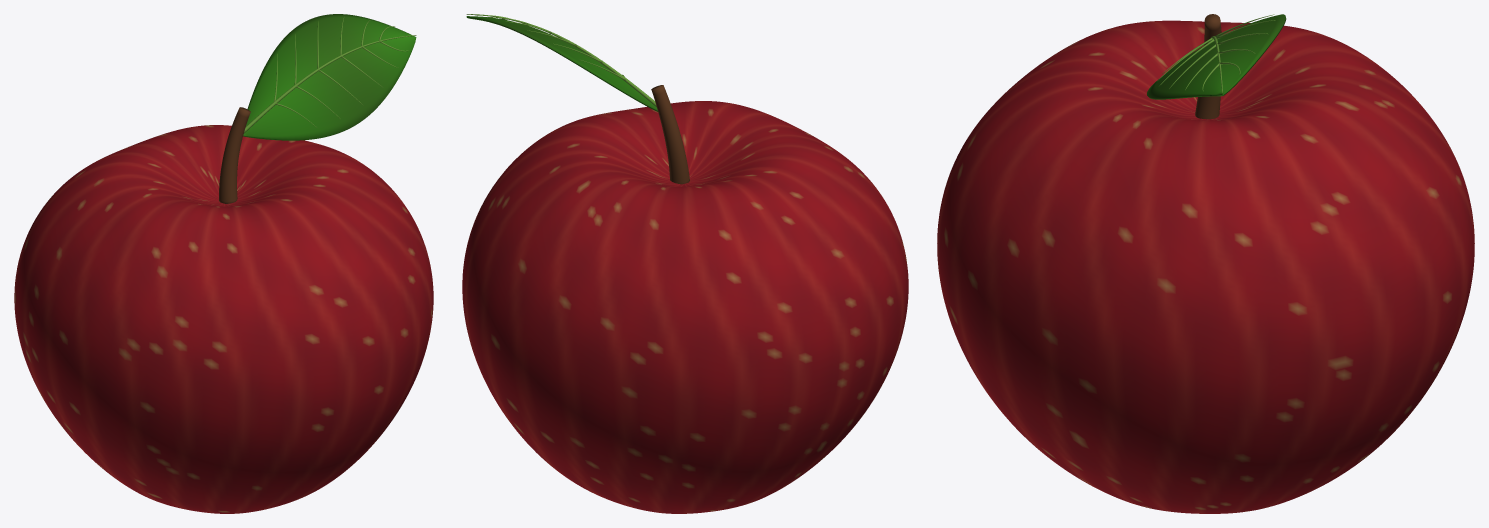
The model's file is apple.glb.
The picture shows the model from 3 angles, left to right: view 1: azimuth 30°, elevation 25°; view 2: azimuth 150°, elevation 25°; view 3: azimuth 270°, elevation 25°; orthographic projection. The views are drawn at different scales.
Visible parts, largest first — view 1: Apple • sculpted fruit, Apple • leaf, Apple • curved stem, Leaf • central vein; view 2: Apple • sculpted fruit, Apple • leaf, Apple • curved stem; view 3: Apple • sculpted fruit, Apple • leaf, Apple • curved stem.
Boxes of the visible parts, box(x1,y1,x2,y2) form: Apple • sculpted fruit: box(14, 125, 433, 513); Apple • leaf: box(243, 14, 416, 140); Apple • curved stem: box(219, 107, 250, 203); Leaf • central vein: box(243, 35, 416, 133); Apple • sculpted fruit: box(462, 101, 908, 513); Apple • leaf: box(466, 16, 657, 111); Apple • curved stem: box(651, 85, 689, 184); Apple • sculpted fruit: box(937, 20, 1474, 513); Apple • leaf: box(1147, 14, 1286, 99); Apple • curved stem: box(1195, 14, 1221, 119).
Size of the model in its own units: 2.18 by 2.29 by 2.09.
